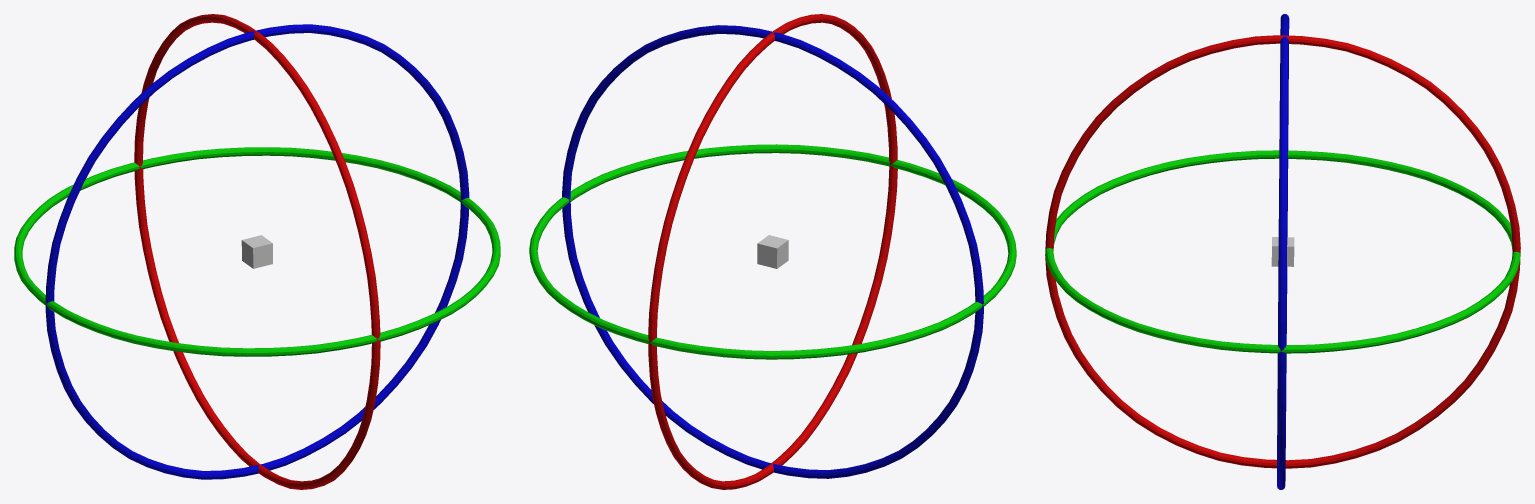
Rendered from rotate_gizmo.obj.
The picture shows the model from 3 angles, left to right: view 1: azimuth 30°, elevation 25°; view 2: azimuth 150°, elevation 25°; view 3: azimuth 270°, elevation 25°; orthographic projection. The views are drawn at different scales.
Visible parts, largest first — view 1: axis_z, axis_x, axis_y, center; view 2: axis_z, axis_x, axis_y, center; view 3: axis_x, axis_y, axis_z.
Boxes of the visible parts, box(x1,y1,x2,y2) form: axis_z: box(45, 24, 469, 479); axis_x: box(134, 14, 380, 489); axis_y: box(14, 147, 500, 356); center: box(241, 235, 272, 268); axis_z: box(562, 25, 983, 478); axis_x: box(648, 14, 897, 489); axis_y: box(529, 144, 1016, 359); center: box(757, 235, 788, 268); axis_x: box(1045, 35, 1520, 468); axis_y: box(1045, 150, 1520, 353); axis_z: box(1277, 14, 1289, 489).
Bounding box in the file's own units: 2.13 × 2.13 × 2.13.
